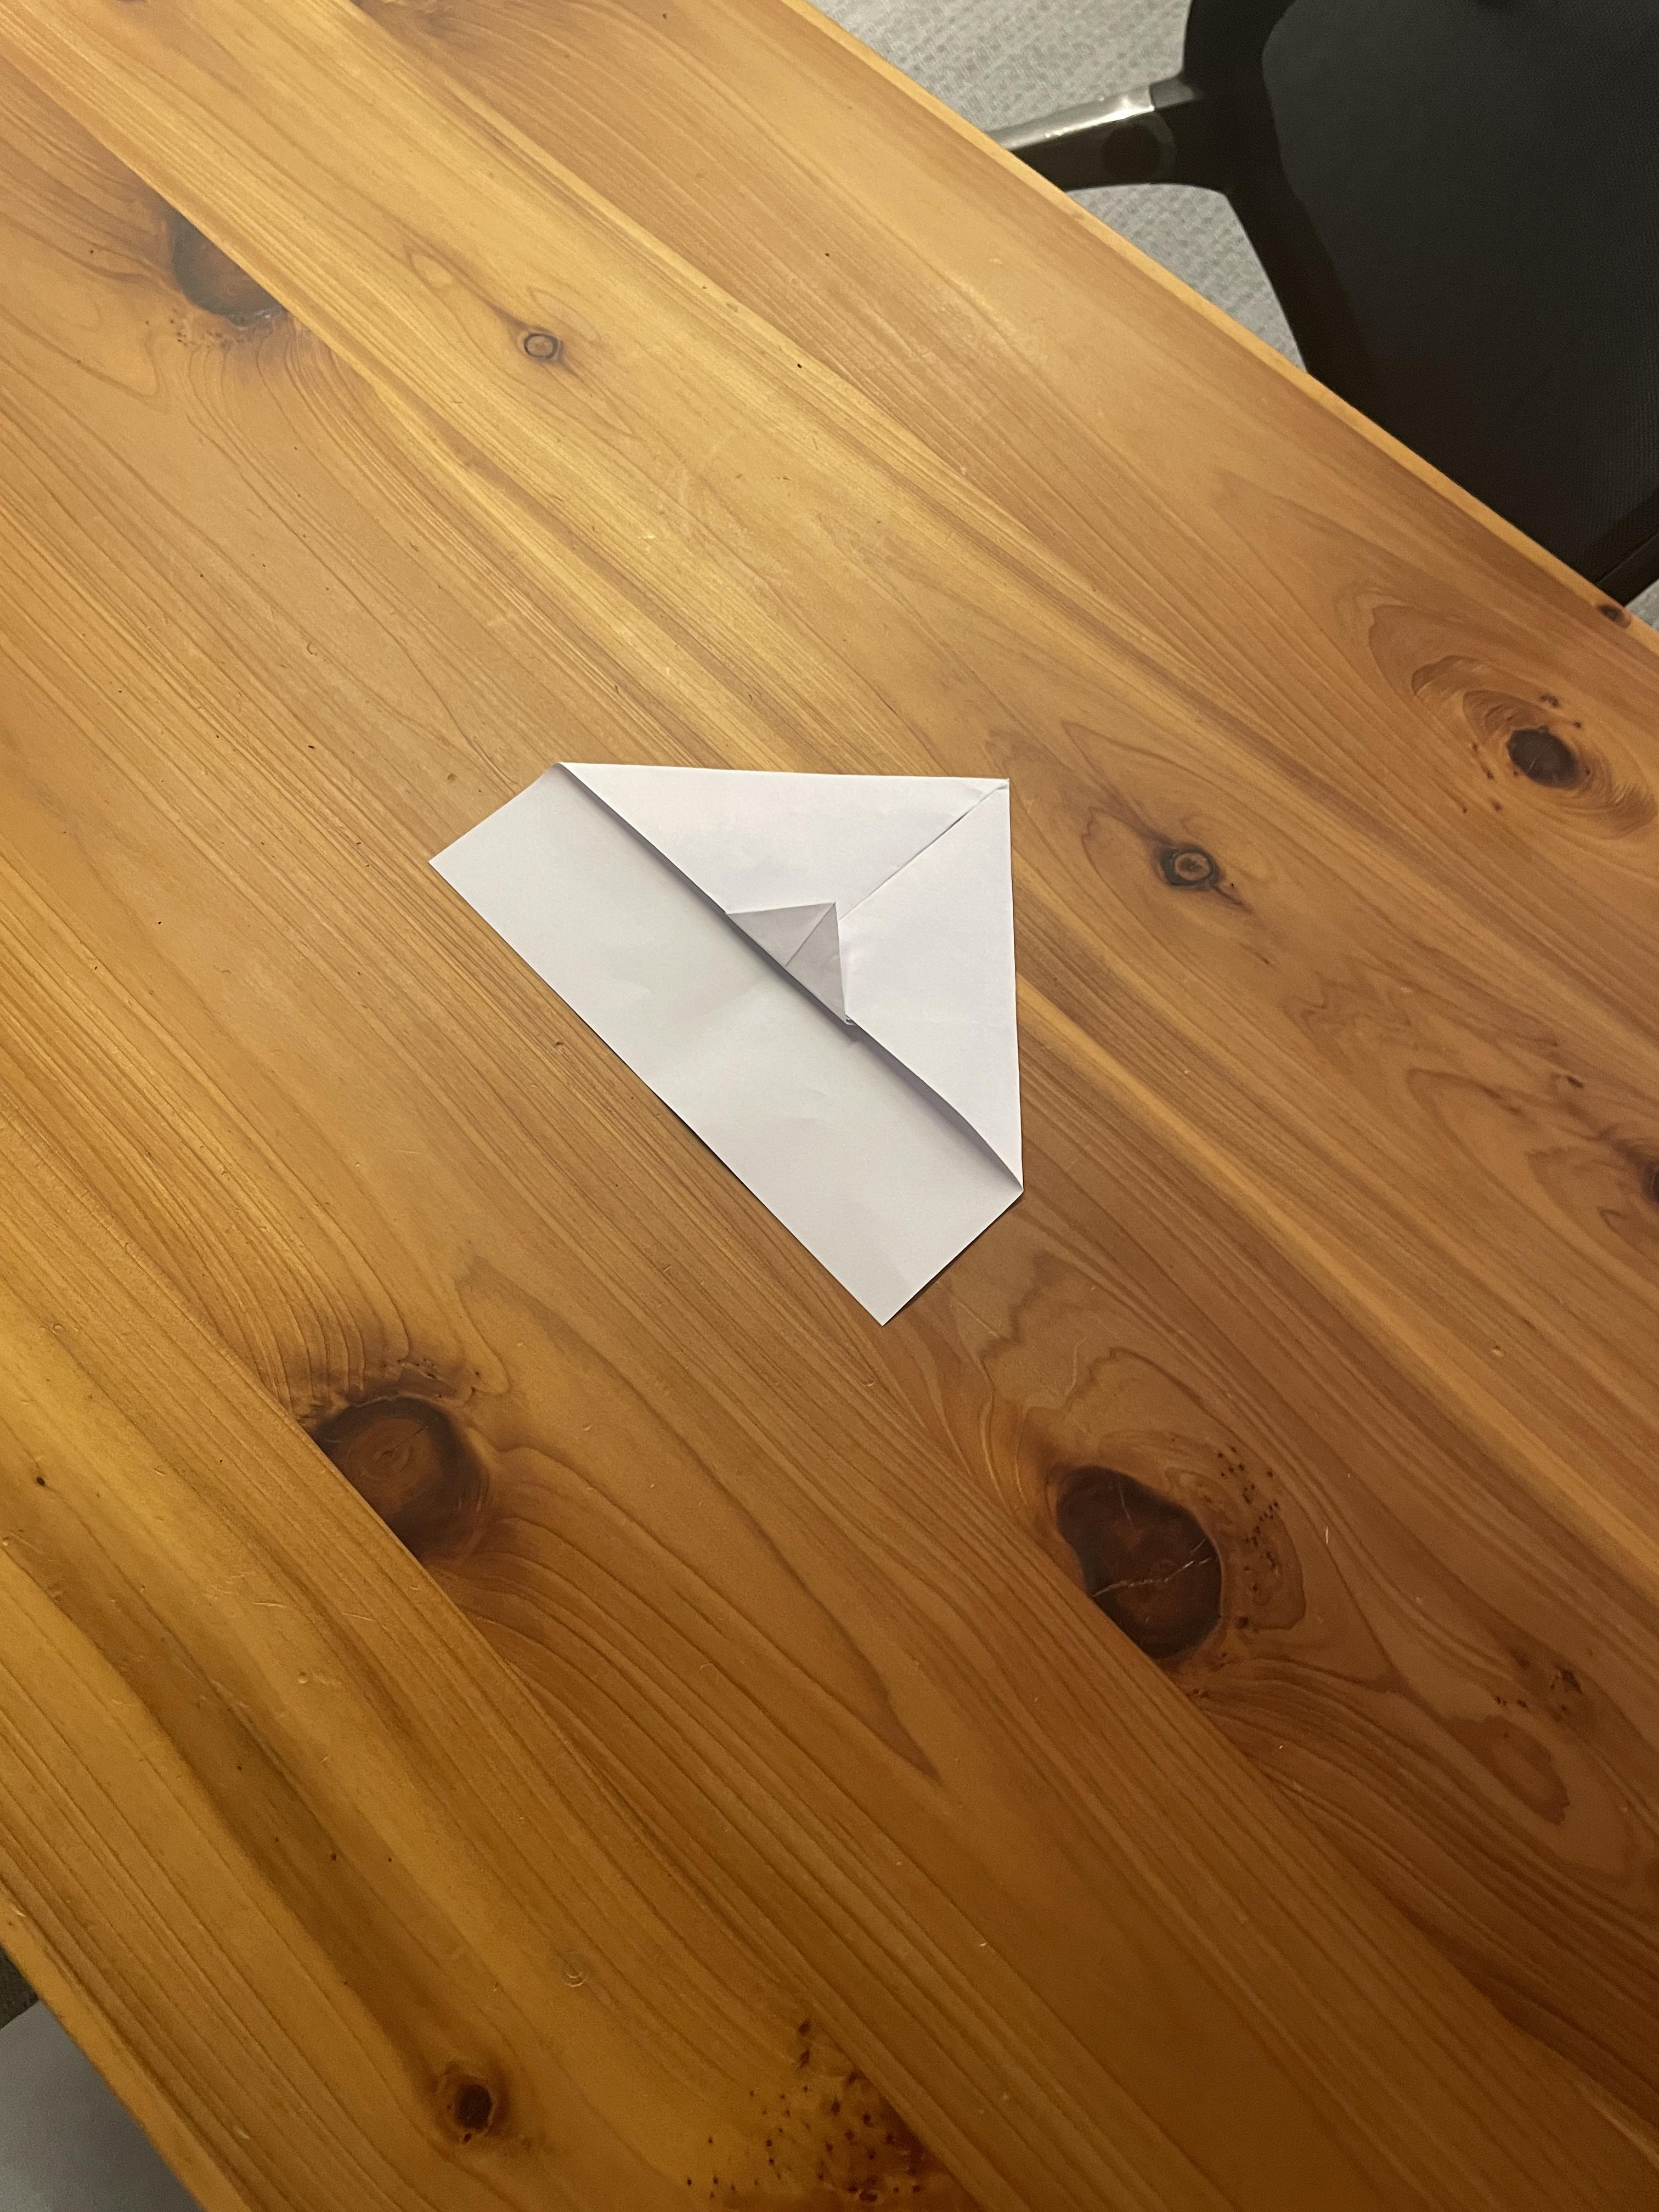shape_2: (361, 564, 1131, 1442)
